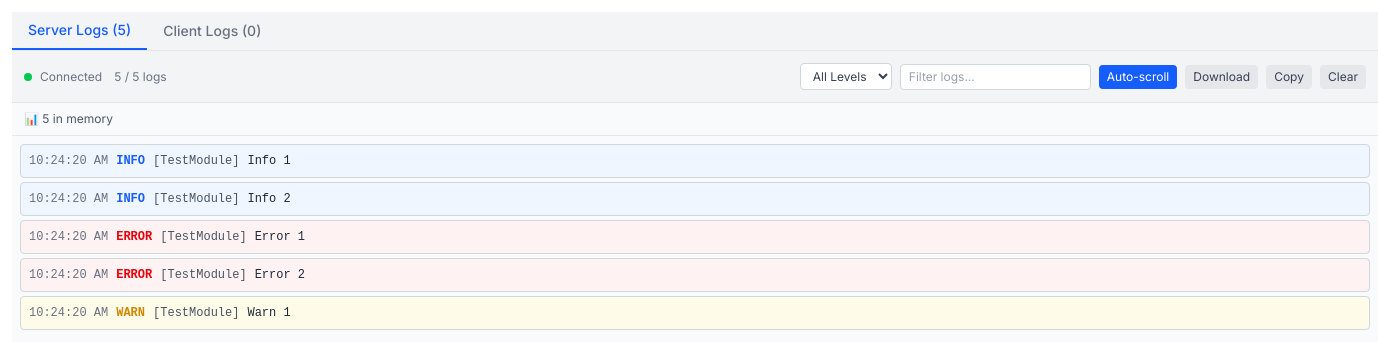
LogViewer Regression Tests › State Persistence › filter count display shows "X / Y logs" accurately
Expected: the text "5 / 5 logs" is shown, [114,68,167,84]
Filter to error only
Select "Error" in the dropdown at (846,76), box [800,63,892,90]
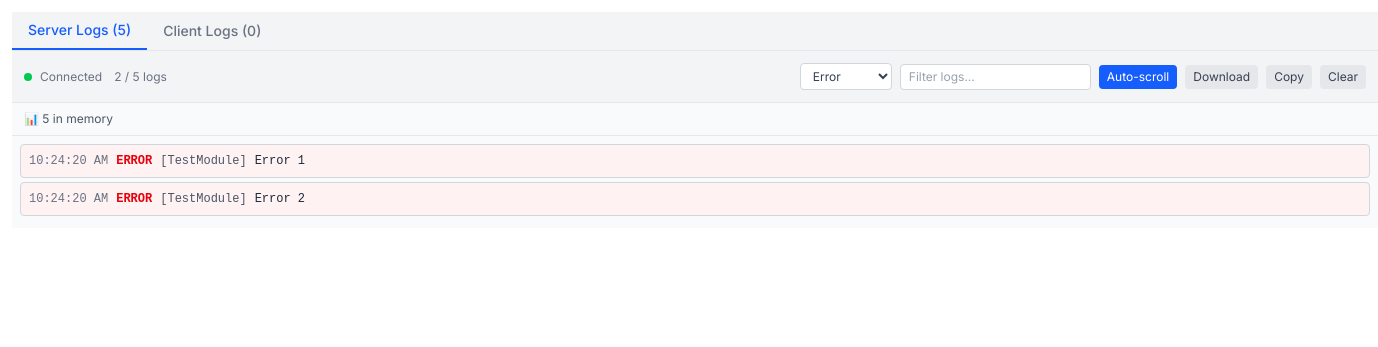
Now the text "2 / 5 logs" is shown, box [114,68,167,84]
Add text filter to narrow to 1
Type "Error 1" into the field with placeholder "Filter logs..." at (995,76), box [900,64,1091,90]
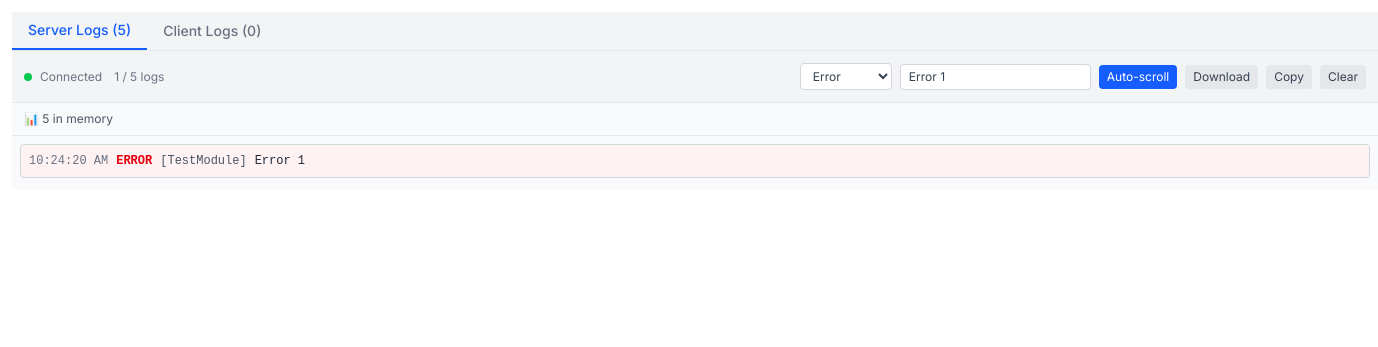
Now the text "1 / 5 logs" is shown, box [114,68,164,84]
